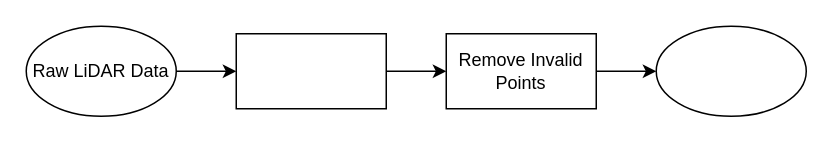
Image size: 833x143. Some labels were removed from this diagram. Each missing label, with the box of its shape:
Check Point Intensity & Distance: (235, 32, 386, 109)
Filtered LiDAR Data: (655, 25, 806, 116)
